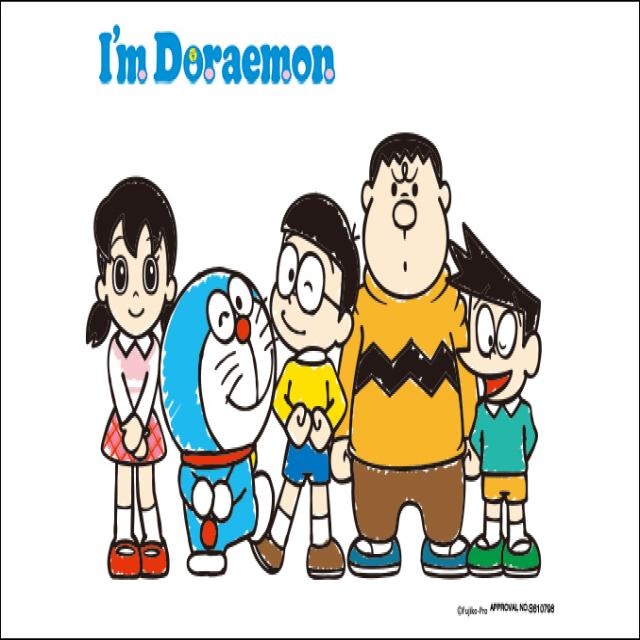doraemon: (159, 246, 283, 501)
jaian: (351, 124, 465, 353)
nobita: (263, 179, 355, 390)
shizuka: (76, 156, 192, 384)
suneo: (442, 204, 554, 450)
